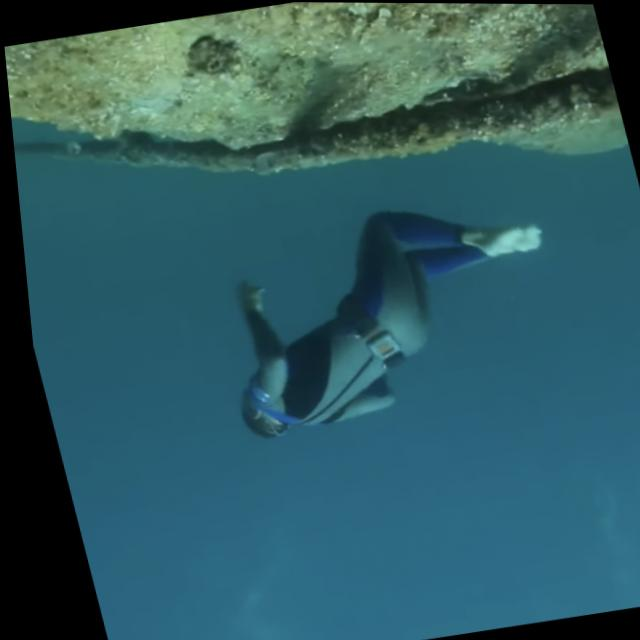human: (177, 170, 590, 456)
